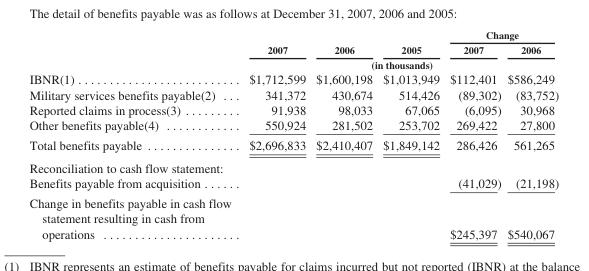table: (28, 28, 558, 240)
table column: (28, 28, 239, 240), (239, 28, 310, 240), (310, 28, 377, 240), (377, 28, 444, 240), (444, 28, 503, 240), (503, 28, 558, 240)
table column header: (28, 28, 558, 71)
table projected row header: (28, 156, 558, 175)
table row: (28, 192, 558, 240), (28, 134, 558, 156), (28, 156, 558, 175), (28, 117, 558, 134), (28, 175, 558, 192), (28, 41, 558, 57), (28, 101, 558, 117), (28, 71, 558, 86), (28, 86, 558, 101), (28, 57, 558, 71), (28, 28, 558, 41)
table spanning cell: (239, 57, 558, 71), (239, 28, 310, 57), (310, 28, 377, 57), (377, 28, 444, 57), (444, 28, 558, 41)
